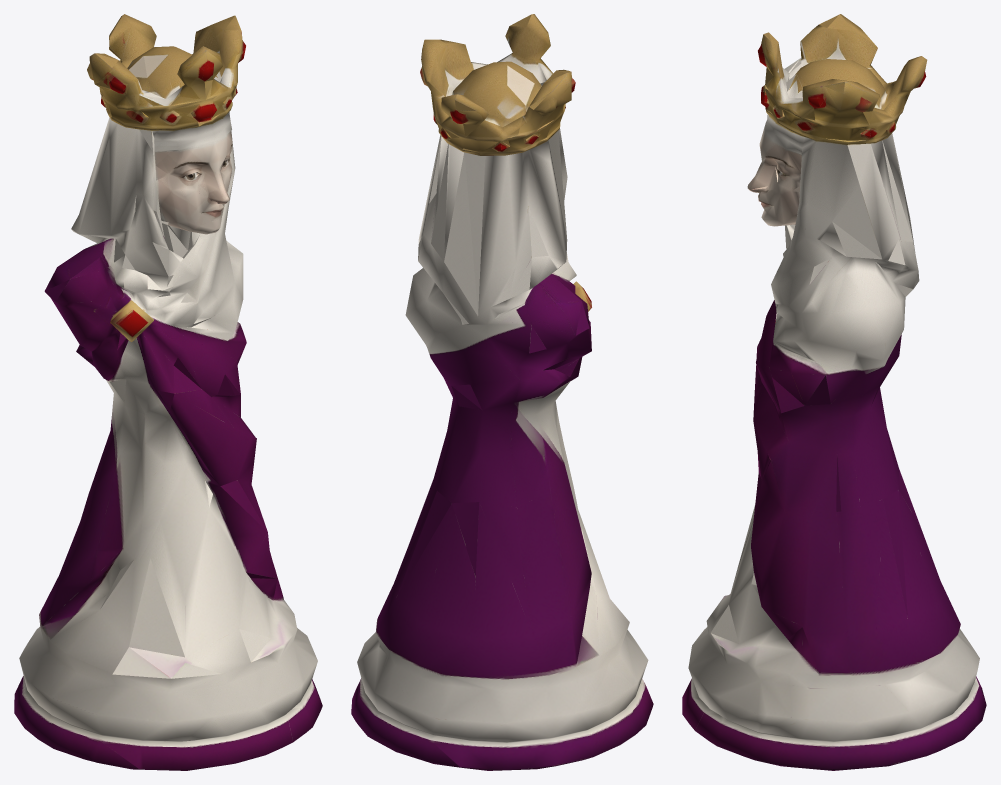
Rendered from queen_white.glb.
3 views of the same model, side by side, from view 1: azimuth 30°, elevation 25°; view 2: azimuth 150°, elevation 25°; view 3: azimuth 270°, elevation 25° (orthographic). The views are drawn at different scales.
Bounding box in the file's own units: 0.8099 × 2 × 0.8091.
1 material, 1 textured.
